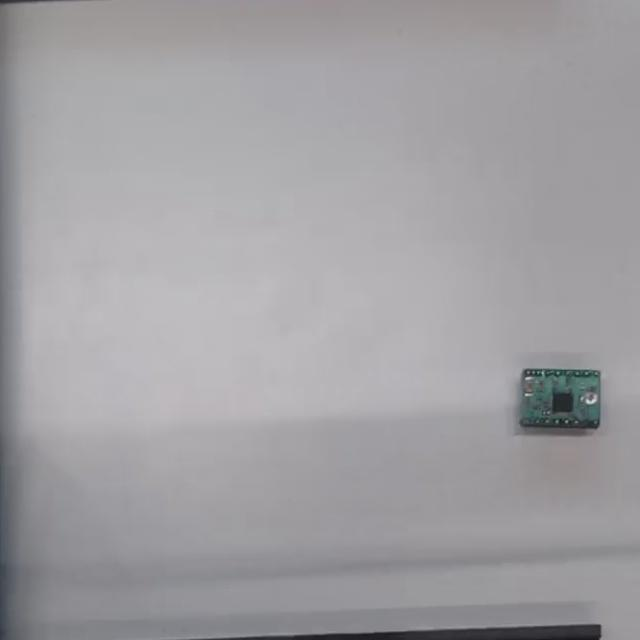Chip: (516, 367, 603, 436)
